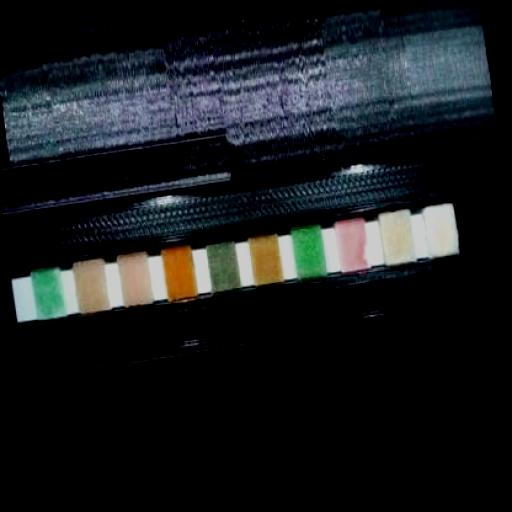Bilirubin: (80, 263, 104, 309)
Blood: (212, 244, 234, 286)
Glucose: (36, 272, 60, 315)
Ketone: (122, 257, 148, 301)
Leukocytes: (429, 207, 453, 253)
Nitrite: (385, 214, 411, 260)
Protein: (298, 229, 322, 275)
SpGravity: (168, 250, 192, 294)
Urobilinogen: (340, 222, 364, 268)
pH: (254, 237, 278, 282)
strip: (12, 209, 457, 322)
